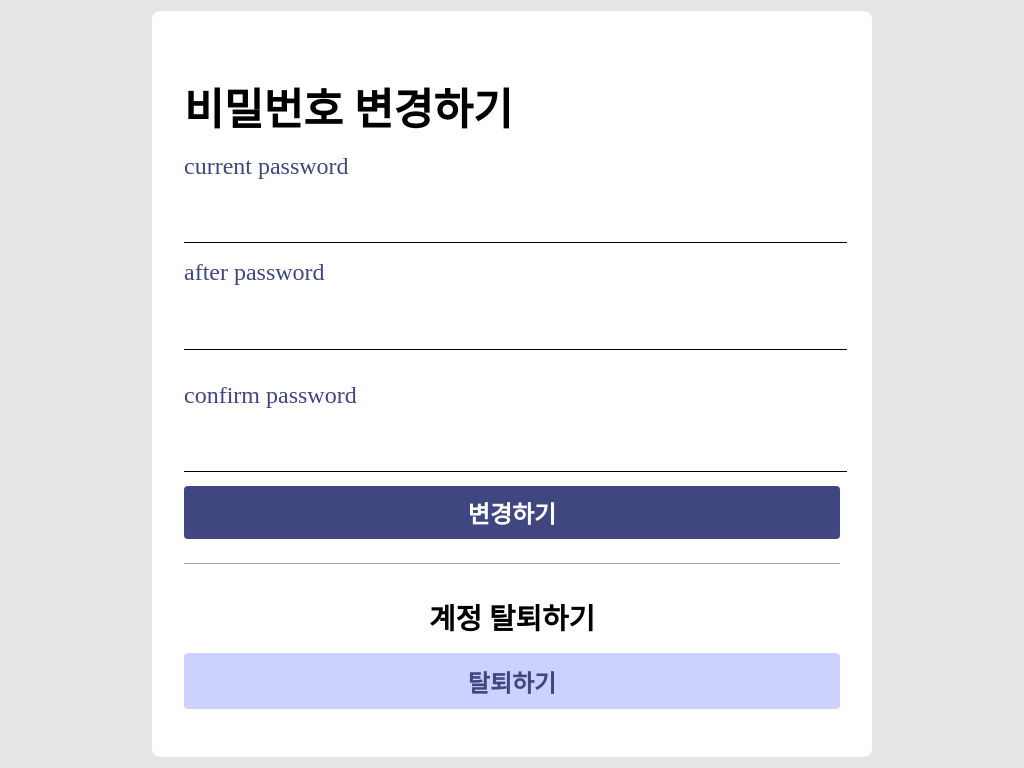
Test case: Component/Organism/AccountInfoModal › 이후 비밀번호 입력창이 비었을 경우 validator 에러 발생
The image size is (1024, 768).
Type "1q2w3e4r" into the password field named "currentpw" at (516, 225), box x1=184 y1=207 x2=847 y2=243
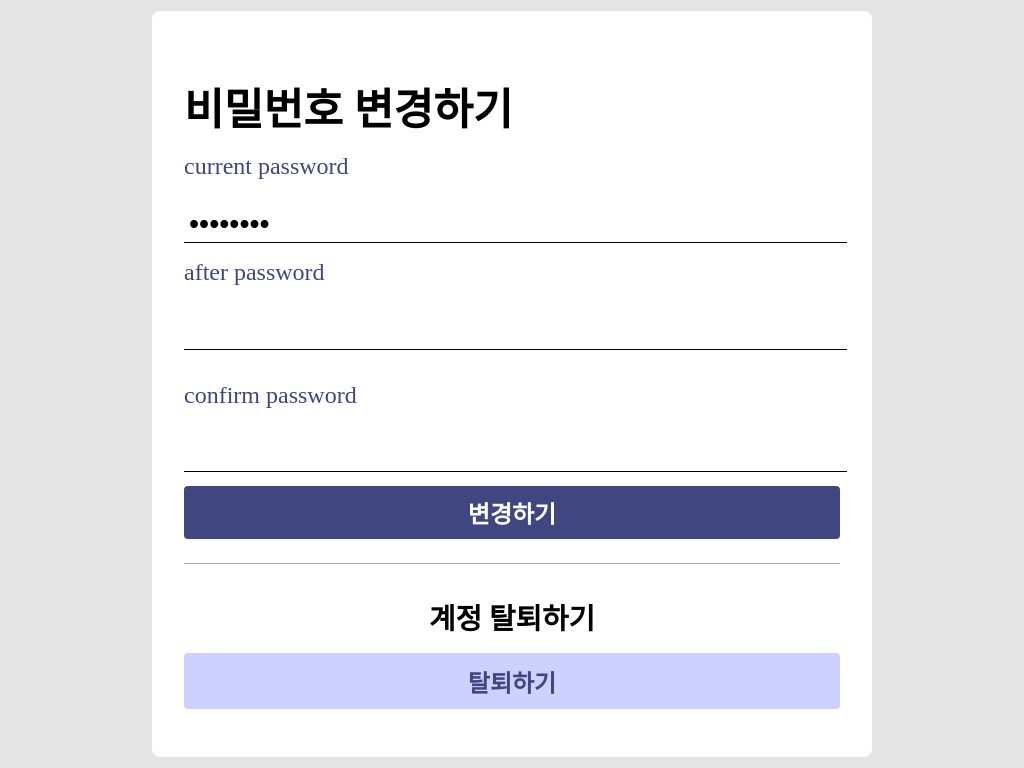
Click the button "변경하기" at (512, 513), box x1=184 y1=486 x2=840 y2=539
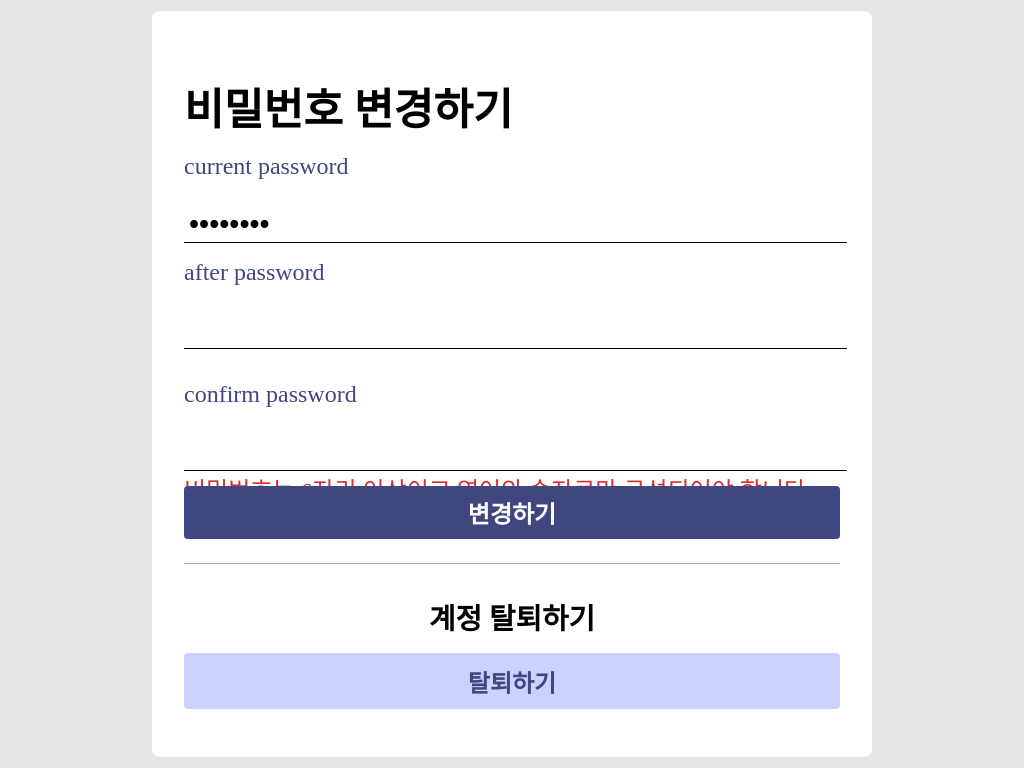
Expected: the text "비밀번호는 6자리 이상이고 영어와 숫자로만 구성되어야 합니다" is shown, x1=184 y1=471 x2=840 y2=486
